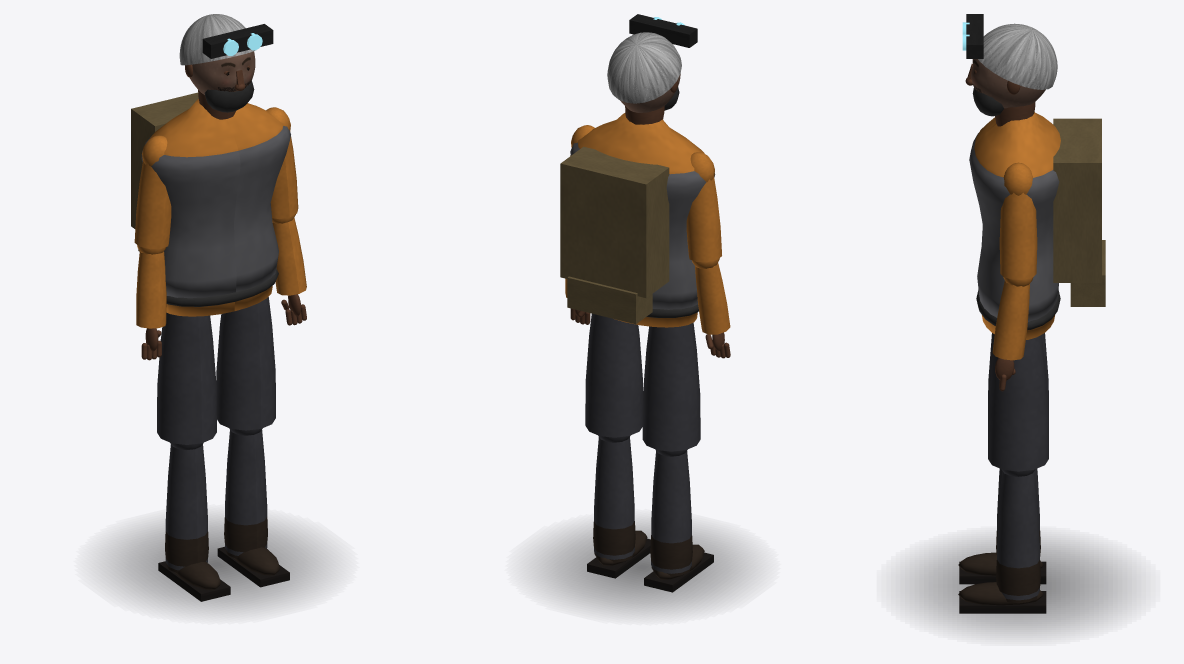
File: npc_sal.glb
3 renders of one model, left to right at view 1: azimuth 30°, elevation 25°; view 2: azimuth 150°, elevation 25°; view 3: azimuth 270°, elevation 25°, orthographic. The views are drawn at different scales.
Visible parts, largest first — view 1: chest, object 11, legL, legR, shinL, shinR, head, armL, foreL, foreR, armR; view 2: chest, object 11, legL, legR, head, shinL, shinR, armL, foreL; view 3: chest, object 11, shinR, head, legR, armR, foreR, shinL.
Part boxes in pixels (left/top/right/bottom): chest: left=131, top=90, right=290, bottom=316; object 11: left=103, top=516, right=329, bottom=612; legL: left=157, top=312, right=216, bottom=444; legR: left=216, top=297, right=275, bottom=430; shinL: left=158, top=442, right=230, bottom=601; shinR: left=217, top=428, right=289, bottom=587; head: left=179, top=14, right=273, bottom=112; armL: left=134, top=135, right=171, bottom=249; foreL: left=136, top=245, right=166, bottom=360; foreR: left=272, top=214, right=306, bottom=325; armR: left=266, top=107, right=298, bottom=218; chest: left=560, top=106, right=715, bottom=327; object 11: left=533, top=521, right=752, bottom=613; legL: left=642, top=322, right=700, bottom=451; legR: left=585, top=313, right=642, bottom=437; head: left=607, top=14, right=697, bottom=112; shinL: left=644, top=449, right=713, bottom=592; shinR: left=587, top=435, right=650, bottom=578; armL: left=686, top=152, right=721, bottom=262; foreL: left=692, top=258, right=730, bottom=358; chest: left=969, top=102, right=1105, bottom=339; object 11: left=905, top=538, right=1131, bottom=633; shinR: left=958, top=469, right=1046, bottom=613; head: left=962, top=14, right=1057, bottom=116; legR: left=988, top=335, right=1048, bottom=471; armR: left=999, top=162, right=1037, bottom=279; foreR: left=992, top=277, right=1033, bottom=391; shinL: left=958, top=468, right=1046, bottom=584.
Bounding box in the file's own units: 0.868 × 1.79 × 0.868.
Materials: 8 (5 with a texture image).
